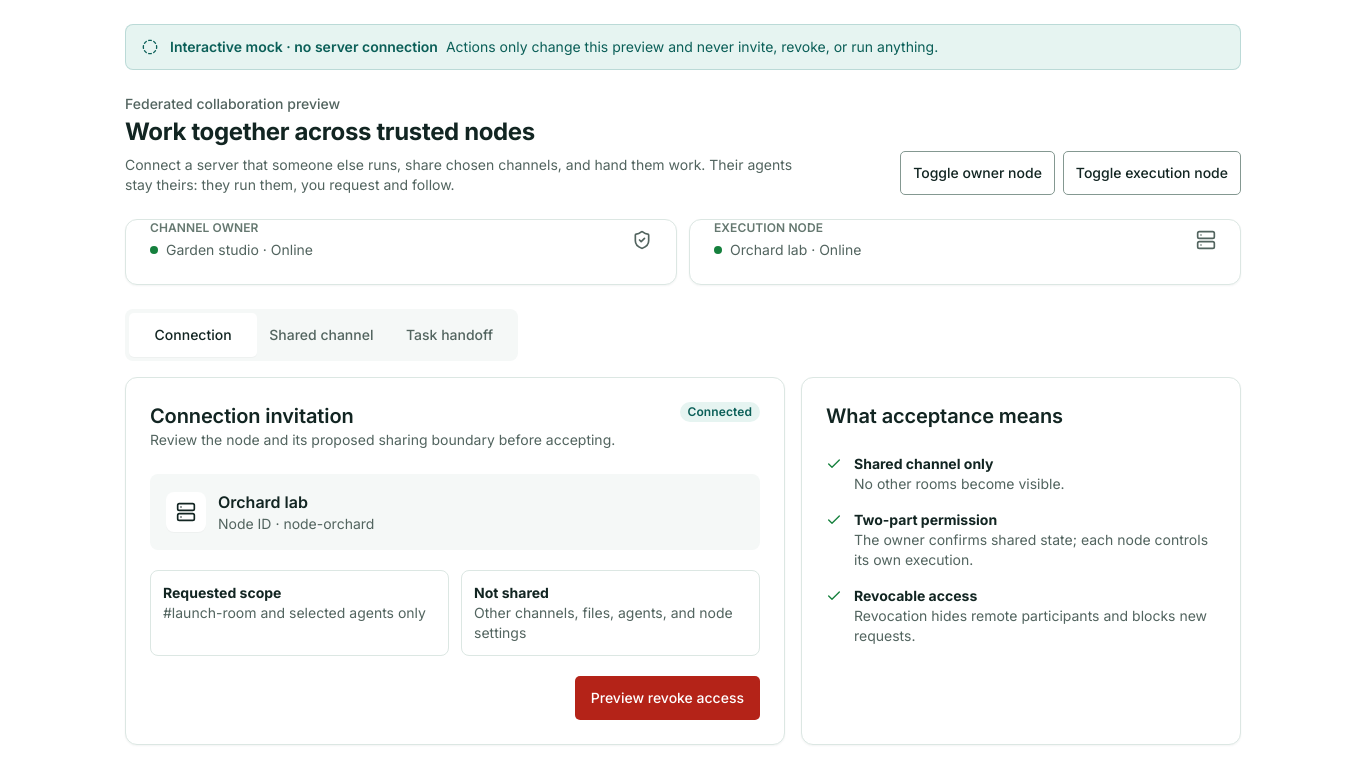
Scenario: FederationWorkspace mock UI › keeps roster visibility separate from execution permission
The image size is (1366, 768).
Press the mouse on the tab "Shared channel" at (321, 335), box [257,313,385,357]
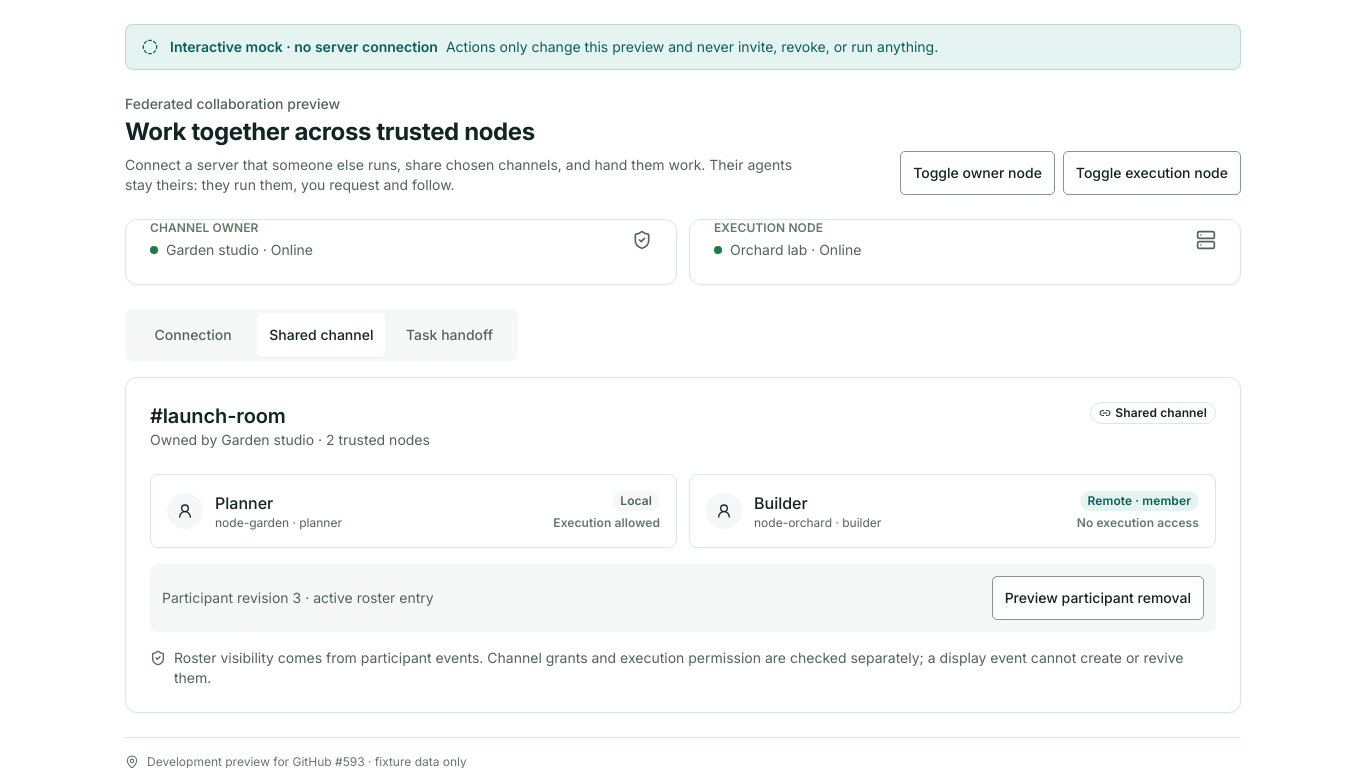
Result: the text "Builder" is shown at [754,493,808,513]
Result: the text "No execution access" is shown at [1077,515,1199,531]
Press the mouse on the tab "Task handoff" at (450, 335), box [385,313,514,357]
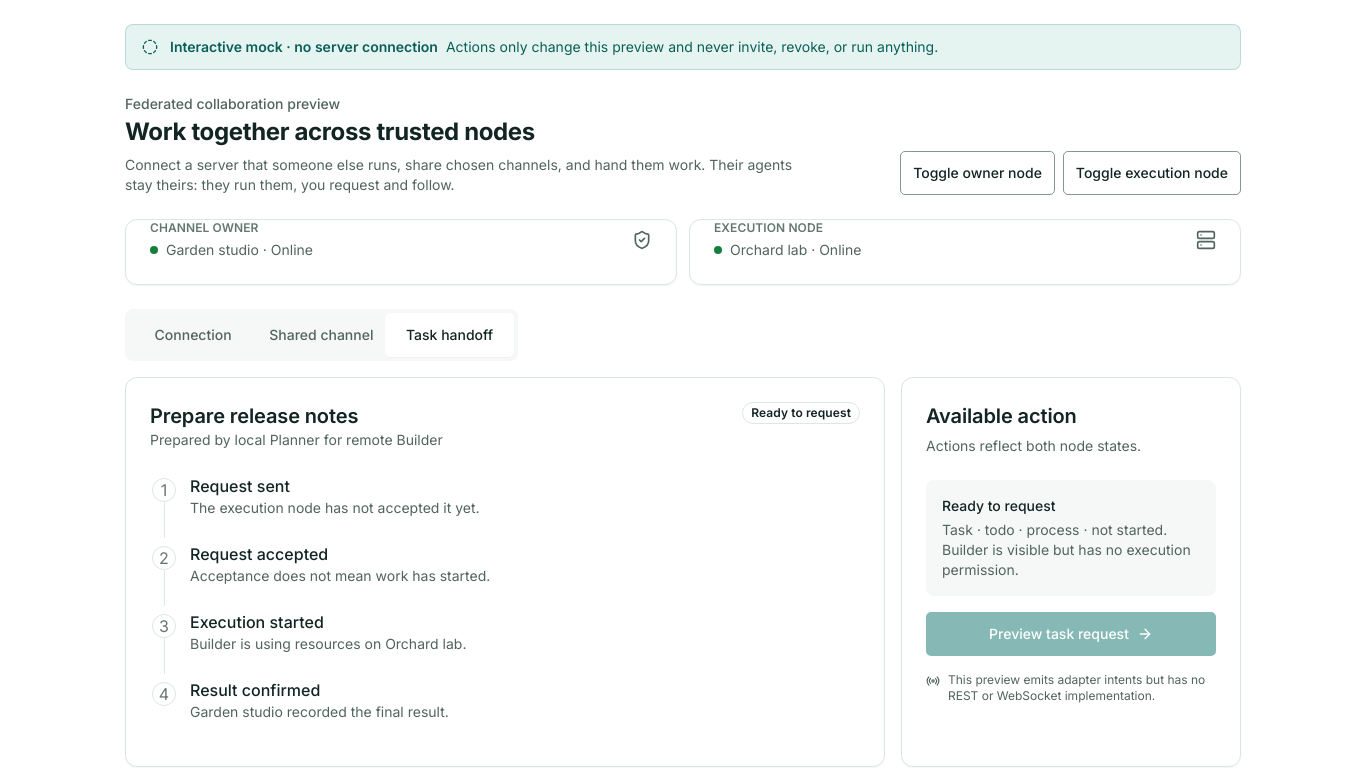
Result: the button "Preview task request" is disabled at [926,612,1216,656]
Result: the text "visible but has no execution permission" is shown at [942,541,1191,578]
